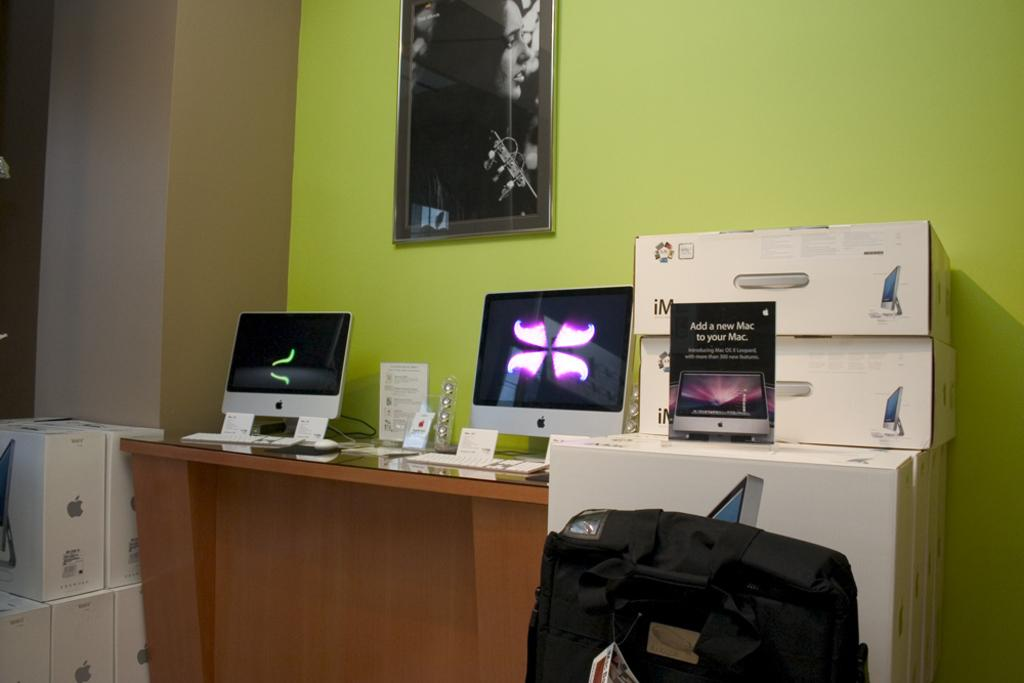Computer-monitor: (467, 281, 635, 443)
Luggage-and-bags: (523, 479, 870, 679)
